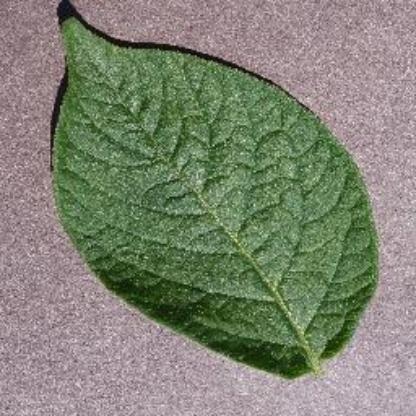Healthy-plant: (42, 8, 398, 386)
